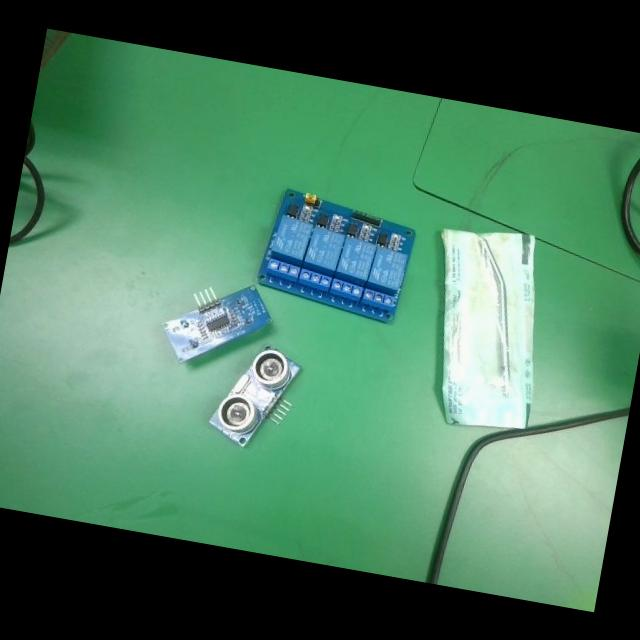relay_module: (254, 186, 419, 327)
triple_syringe: (440, 227, 534, 434)
ultrasonic_hc-sr04: (150, 264, 274, 369), (204, 336, 304, 453)
